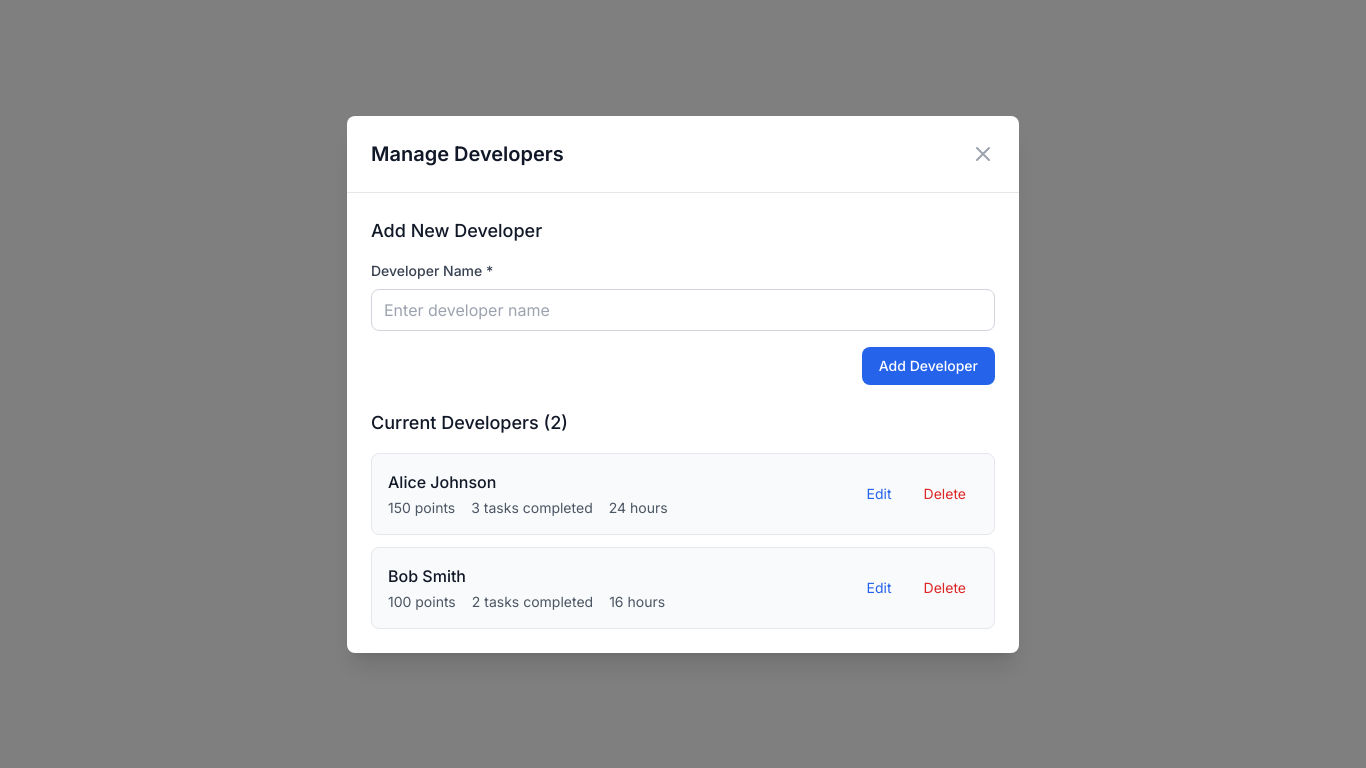
it: DeveloperManagementModal › Adding Developers › should show validation error for empty name
Click the button "Add Developer" at (928, 366), box x1=862 y1=346 x2=995 y2=384
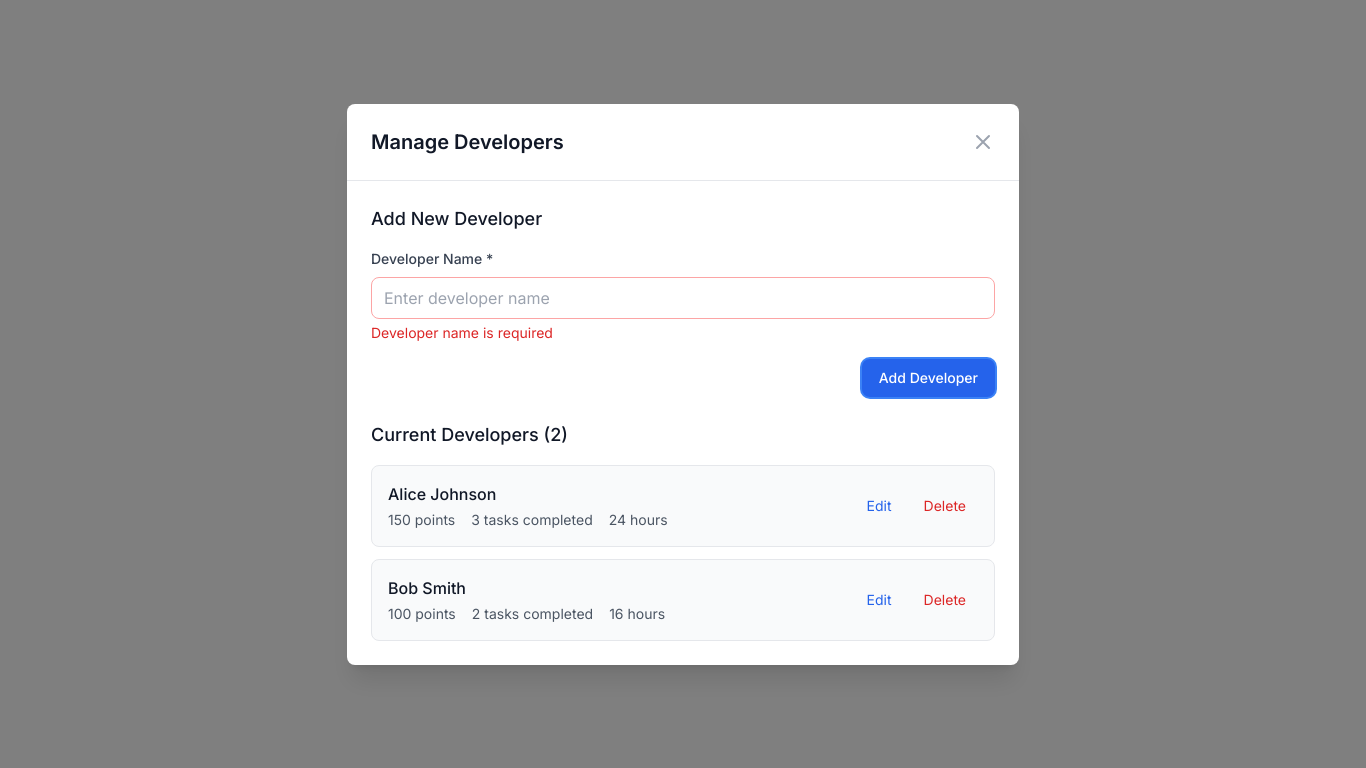
expect the text "Developer name is required" is shown: met, box x1=371 y1=324 x2=553 y2=340
